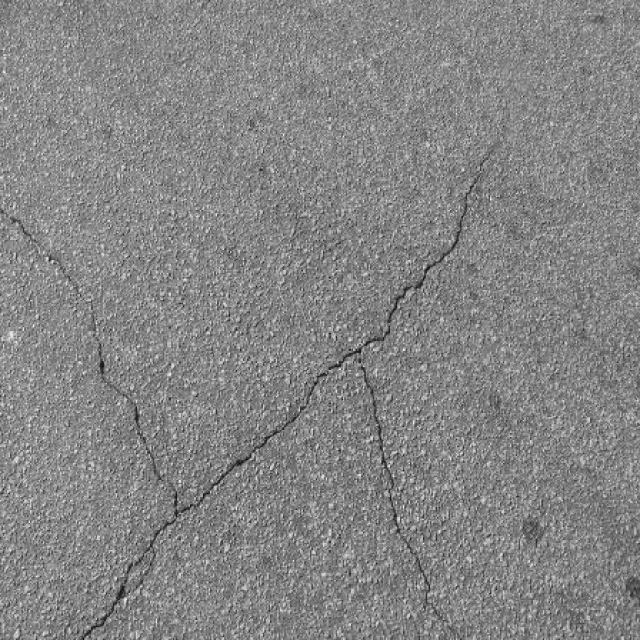pothole: (45, 113, 537, 638), (0, 192, 205, 510), (348, 361, 482, 640)
